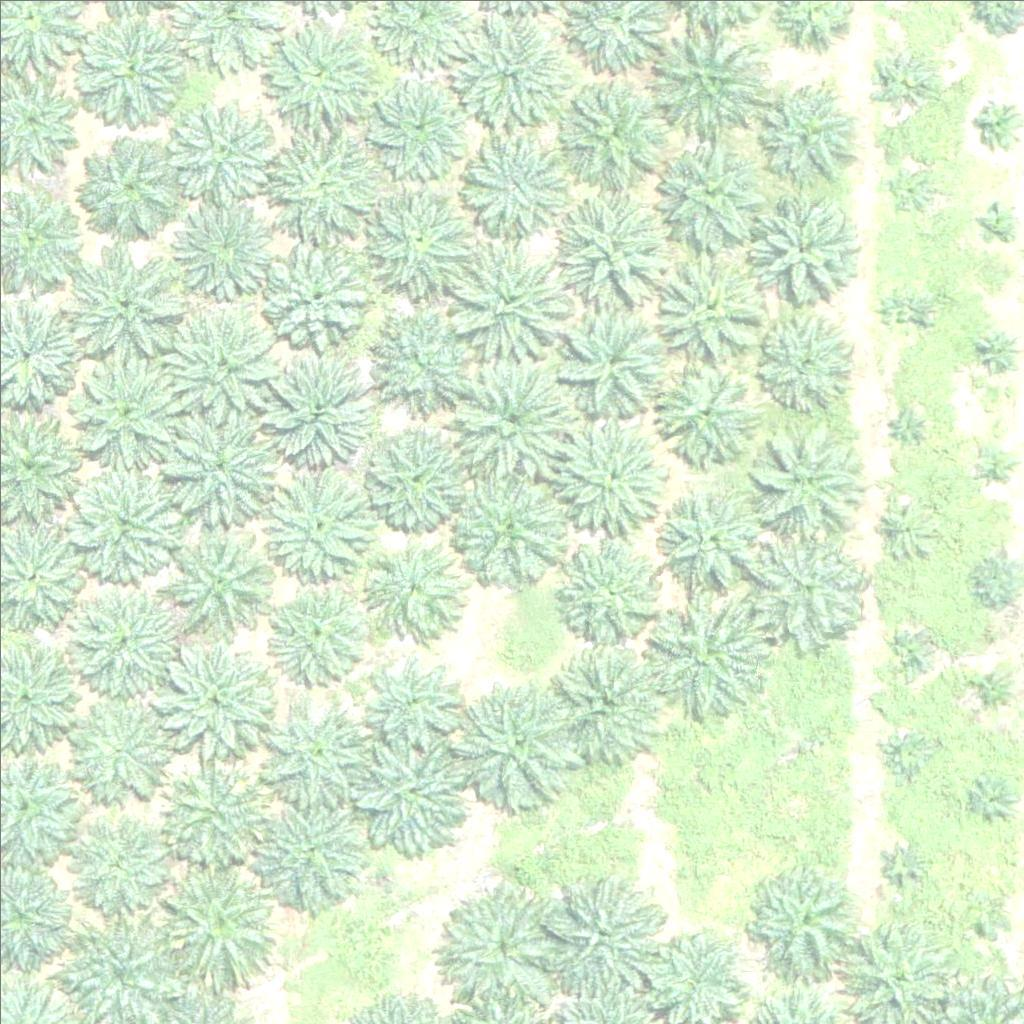Kelapa_Sawit: (540, 870, 665, 996), (437, 881, 562, 1007), (350, 727, 475, 853), (456, 674, 581, 800), (639, 589, 764, 715), (449, 356, 574, 482), (447, 466, 572, 592), (261, 115, 386, 241), (251, 5, 376, 131), (552, 188, 677, 314), (445, 240, 570, 366), (157, 853, 282, 978), (549, 647, 662, 761), (449, 15, 562, 129), (747, 863, 860, 976), (155, 646, 268, 759), (158, 519, 271, 632), (164, 406, 277, 519), (265, 472, 378, 585), (165, 298, 278, 411), (71, 355, 184, 468), (559, 421, 672, 534), (560, 304, 673, 417), (73, 15, 186, 128), (67, 240, 180, 353), (171, 195, 284, 308), (265, 349, 377, 463), (558, 71, 670, 185), (650, 15, 762, 129), (654, 131, 766, 245), (651, 248, 763, 362), (63, 910, 175, 1023), (65, 694, 177, 807), (64, 584, 176, 697), (66, 468, 178, 581), (751, 529, 863, 642), (742, 423, 854, 536), (163, 86, 275, 199), (257, 237, 369, 350), (362, 183, 474, 296), (70, 813, 170, 914), (164, 763, 264, 864), (254, 801, 354, 902), (266, 703, 366, 804), (270, 582, 370, 683), (364, 650, 464, 751), (661, 491, 761, 592), (655, 363, 755, 464), (78, 135, 178, 236), (371, 67, 471, 168), (459, 127, 559, 228), (366, 536, 466, 636), (368, 427, 468, 527), (383, 304, 483, 404), (562, 543, 662, 643), (750, 198, 850, 298), (762, 72, 862, 172), (758, 314, 845, 402), (869, 44, 931, 107), (881, 502, 931, 553), (965, 667, 1015, 718), (876, 285, 926, 335), (967, 777, 1017, 827), (881, 630, 931, 680), (878, 840, 928, 890), (882, 729, 932, 779), (959, 894, 1009, 944), (970, 440, 1020, 490), (887, 166, 937, 216), (971, 326, 1021, 376), (979, 203, 1017, 241), (894, 410, 919, 435)
